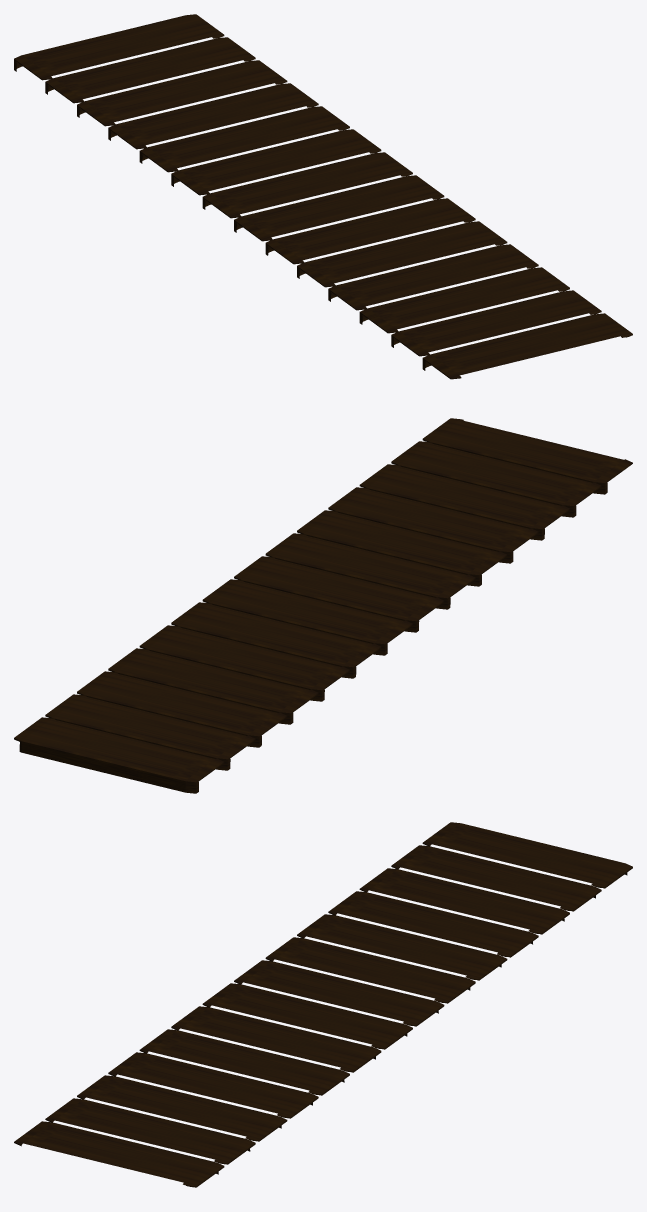
File: Veranda.fbx
3 renders of one model, top to bottom at view 1: azimuth 30°, elevation 25°; view 2: azimuth 150°, elevation 25°; view 3: azimuth 330°, elevation 25°, orthographic.
Visible parts, largest first — view 1: Veranda; view 2: Veranda; view 3: Veranda.
Part boxes in pixels (box(x1,y1,x2,y2)): Veranda: box(14, 14, 632, 379); Veranda: box(14, 418, 632, 793); Veranda: box(14, 822, 632, 1187).
Bounding box in the file's own units: 29.99 × 2 × 125.
Materials: 1 (1 with a texture image).
